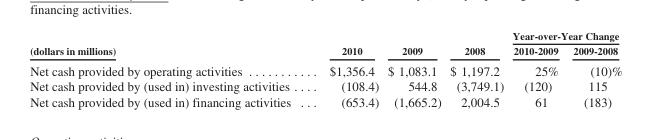table: (29, 29, 621, 108)
table column: (29, 29, 309, 108), (309, 29, 382, 108), (382, 29, 445, 108), (445, 29, 507, 108), (507, 29, 565, 108), (565, 29, 621, 108)
table column header: (29, 29, 621, 59)
table row: (29, 59, 621, 78), (29, 42, 621, 59), (29, 78, 621, 93), (29, 93, 621, 108), (29, 29, 621, 42)
table spanning cell: (29, 29, 309, 59), (309, 29, 382, 59), (382, 29, 445, 59), (445, 29, 507, 59), (507, 29, 621, 42)
